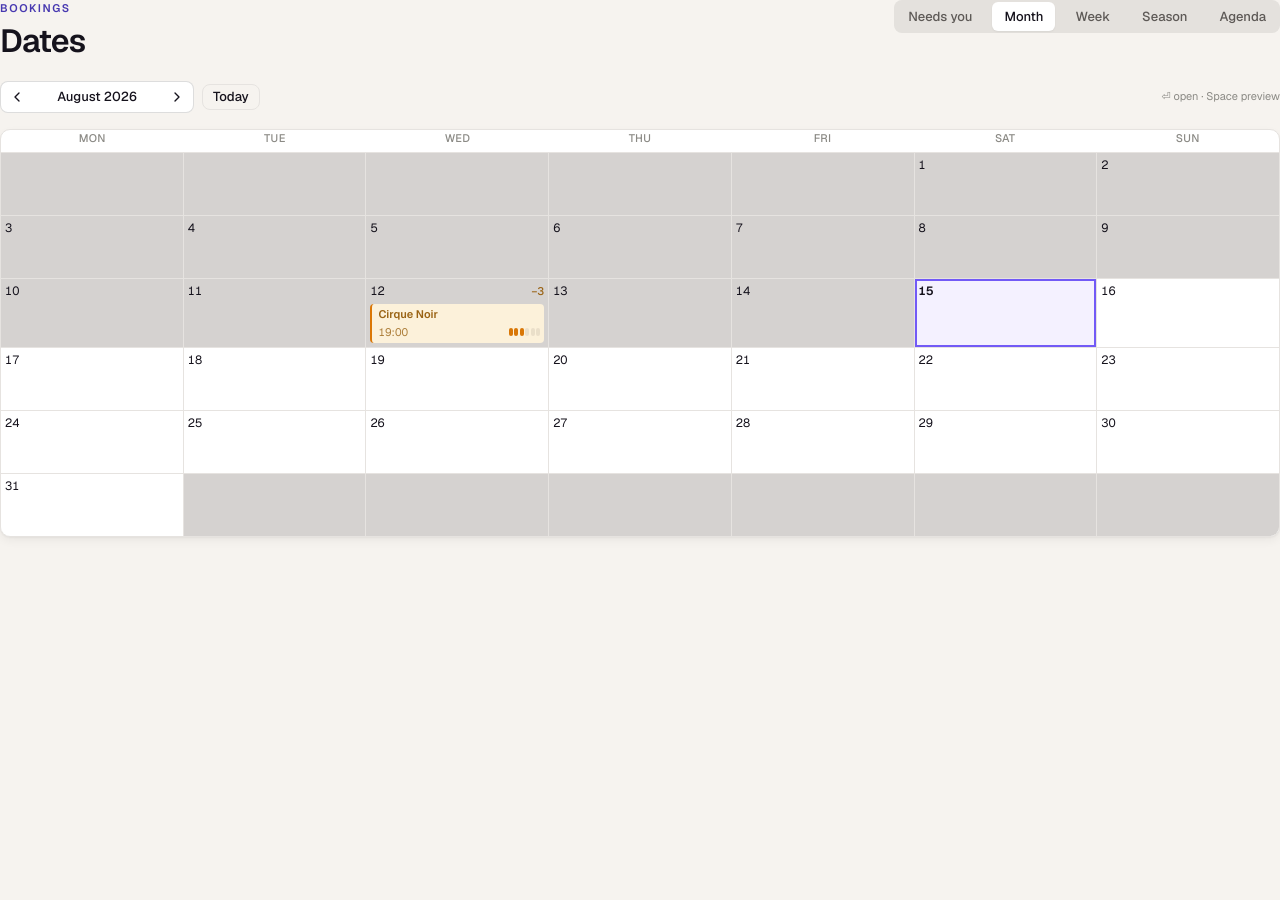
it: CalendarSurface — mobile shell (useIsMobile true) › tapping a Month cell opens the CalendarDaySheet showing that day
What coordinates should you click on to do the following:
click the button with test id "month-grid-cell-2026-08-12"
I would click on:
 (457, 313)
Its box is left=366, top=279, right=548, bottom=346.
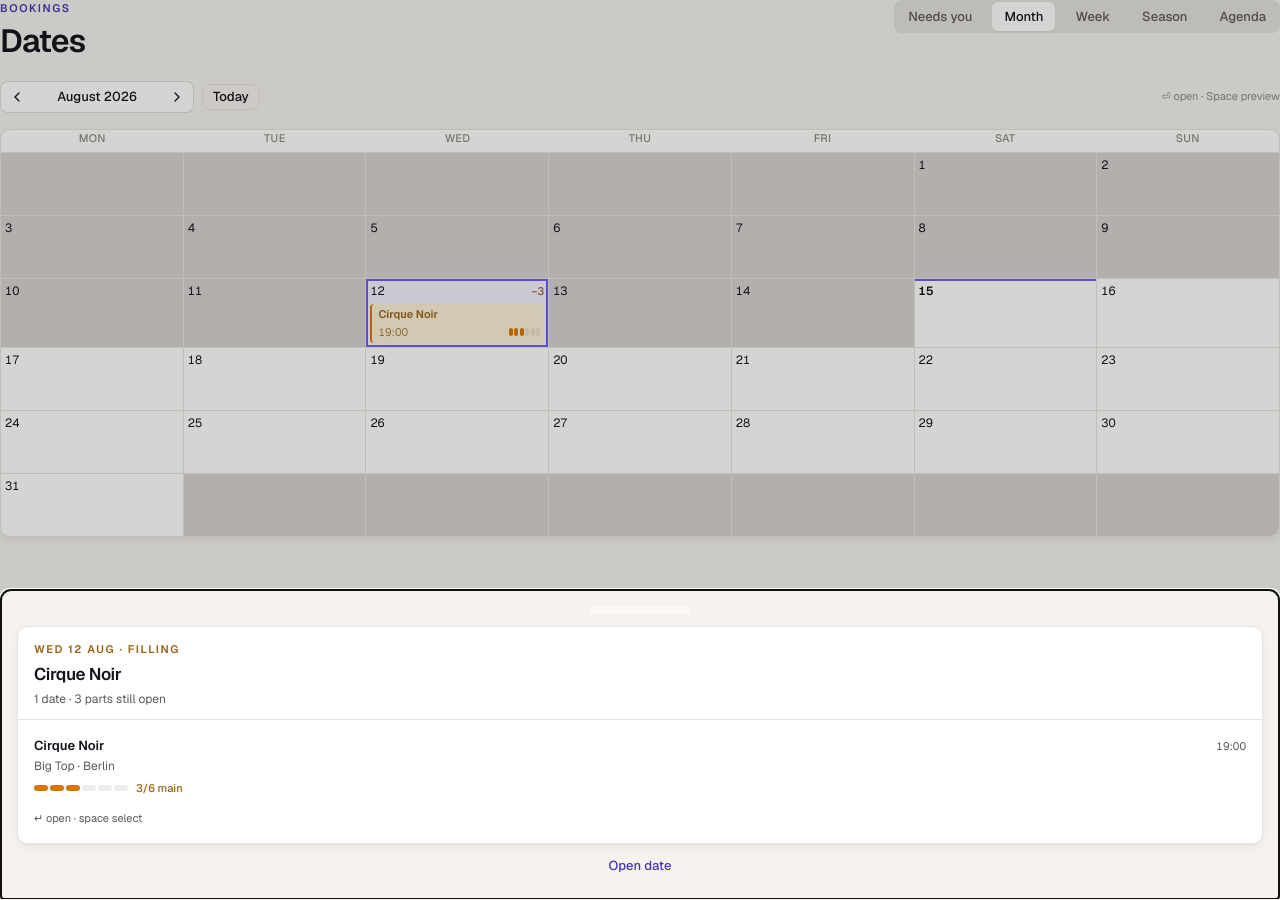
Expected: the dialog with test id "calendar-day-sheet" is shown, left=0, top=589, right=1279, bottom=899
Expected: the dialog with test id "calendar-day-sheet" shows "Cirque Noir", left=34, top=662, right=121, bottom=684
